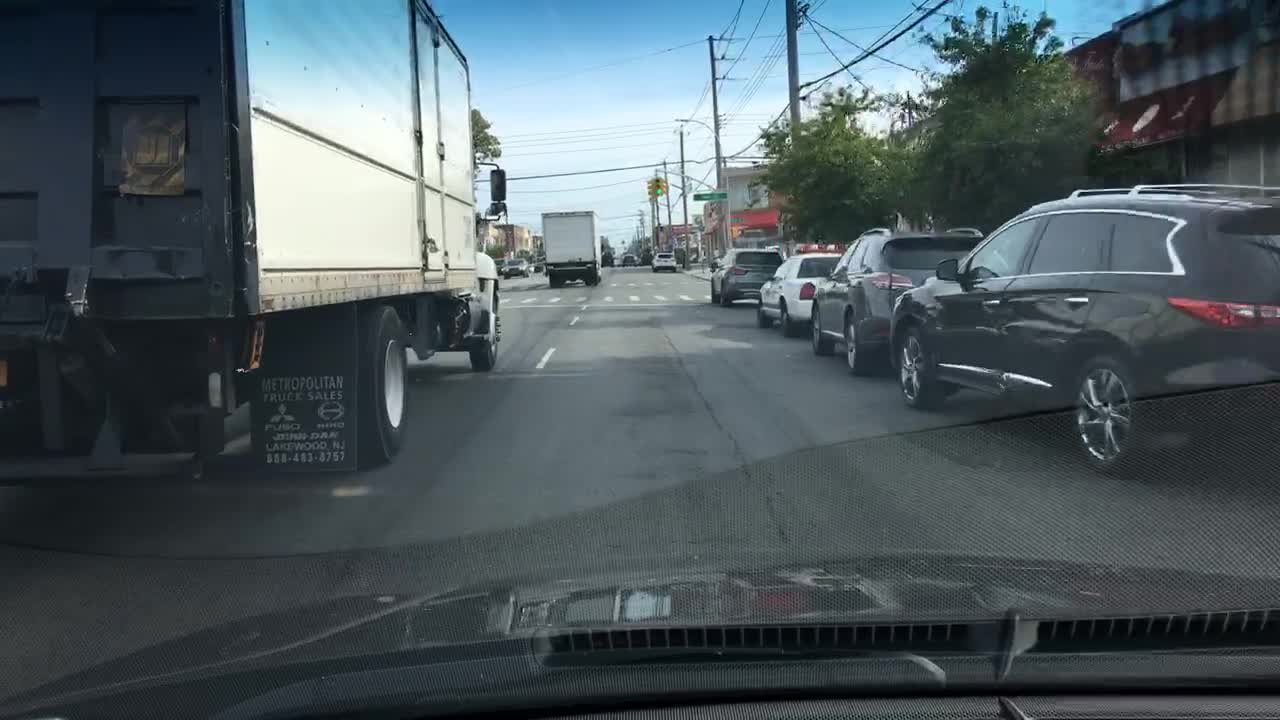car: (885, 179, 1280, 470), (809, 224, 985, 373), (754, 250, 845, 336), (705, 246, 787, 309), (502, 254, 531, 281), (650, 247, 680, 273), (493, 255, 511, 273), (621, 251, 639, 267), (600, 249, 612, 269), (612, 255, 623, 268)
traffic light: (691, 190, 728, 201), (659, 176, 672, 194), (653, 177, 664, 197), (646, 178, 656, 196), (731, 226, 746, 237), (727, 213, 744, 222)
truck: (0, 0, 504, 480), (539, 208, 600, 287)
